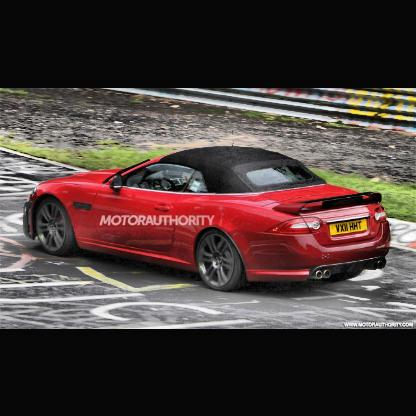Jaguar XK XKR 2012: (26, 145, 393, 293)
